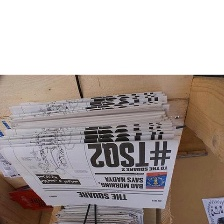news_paper: (0, 90, 182, 212)
